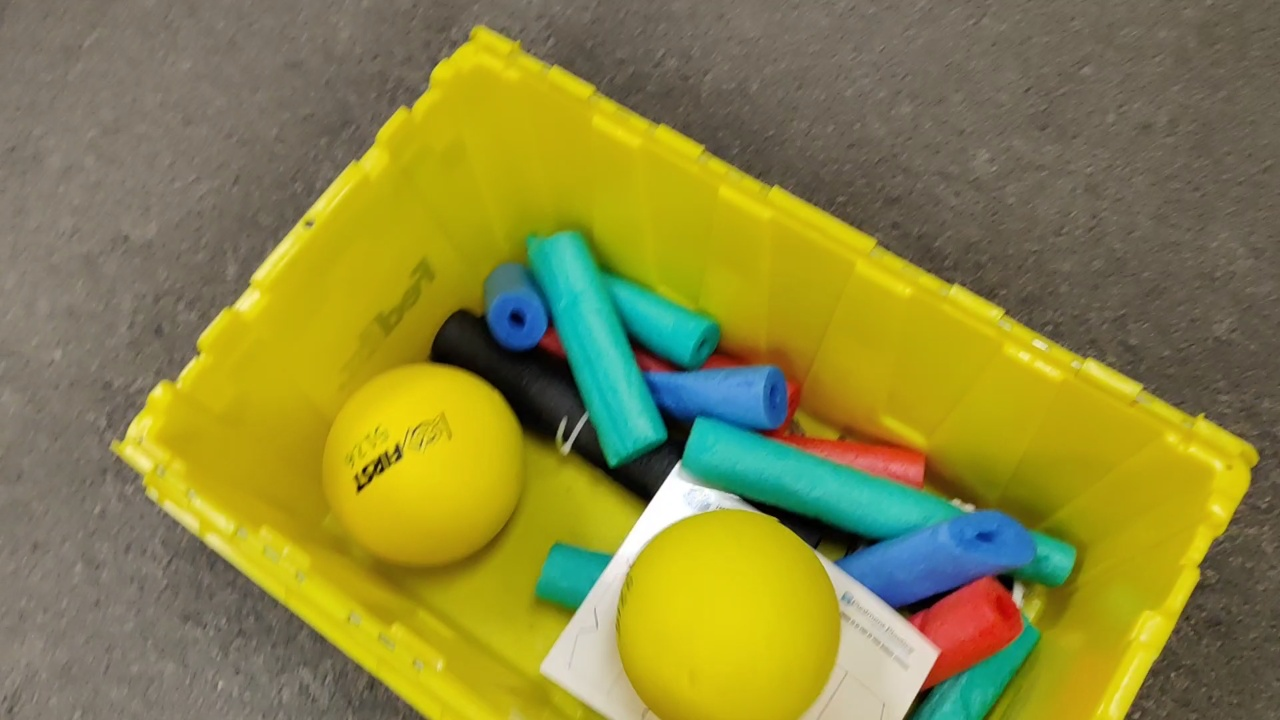Ball: (619, 511, 845, 720), (324, 365, 524, 560)
